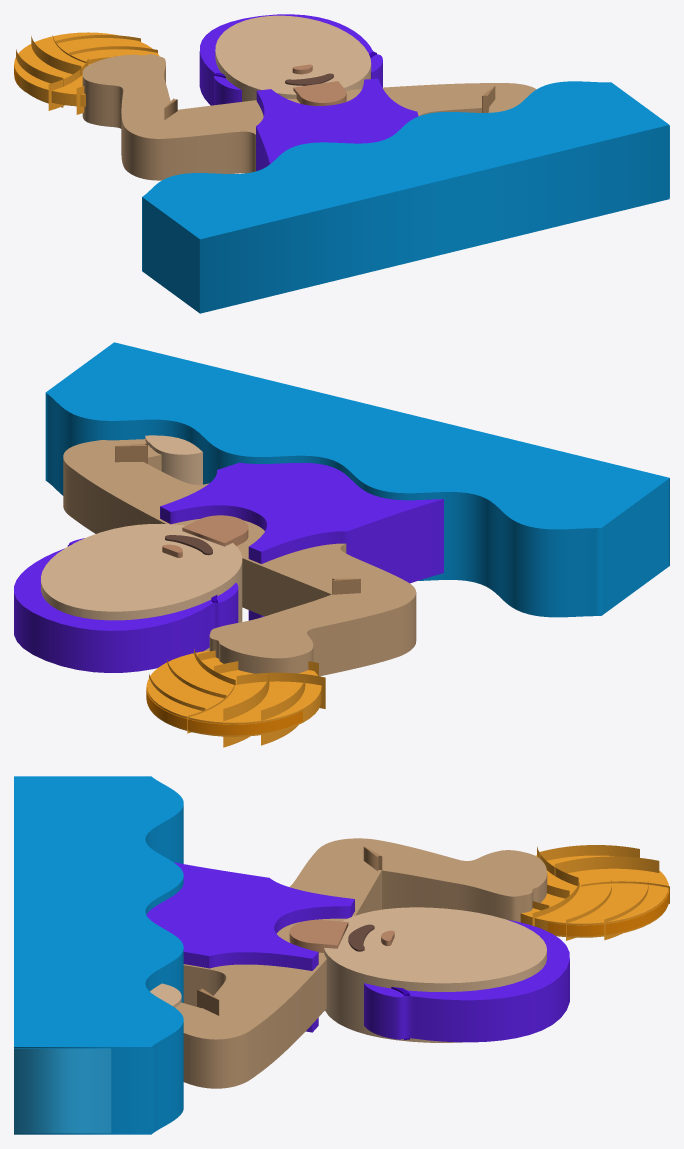
File: emoji_u1f93d_1f3fc_200d_2640.glb
3 views of the same model, one above another, from view 1: azimuth 30°, elevation 25°; view 2: azimuth 150°, elevation 25°; view 3: azimuth 270°, elevation 25° (orthographic). The views are drawn at different scales.
Parts seen in each view (by area): view 1: emoji_u1f93d_1f3fc_200d_2640; view 2: emoji_u1f93d_1f3fc_200d_2640; view 3: emoji_u1f93d_1f3fc_200d_2640.
Boxes of the visible parts, bbox=[...] form: emoji_u1f93d_1f3fc_200d_2640: bbox=[14, 14, 669, 313]; emoji_u1f93d_1f3fc_200d_2640: bbox=[14, 342, 669, 747]; emoji_u1f93d_1f3fc_200d_2640: bbox=[14, 776, 669, 1134].
Size of the model in its own units: 0.0331 by 0.005 by 0.0338.
